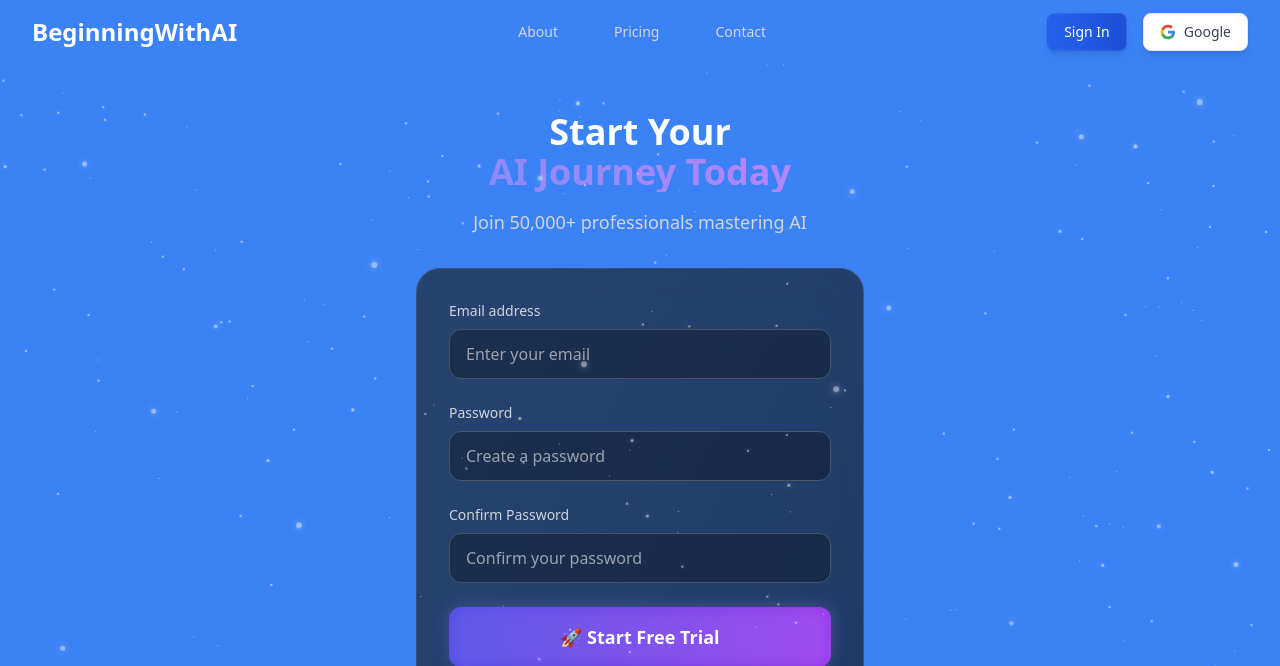
Test: Signup Page › shows error when passwords do not match
Type "test@example.com" into the field labelled "Email address" at [640, 354], box [449,329,831,379]
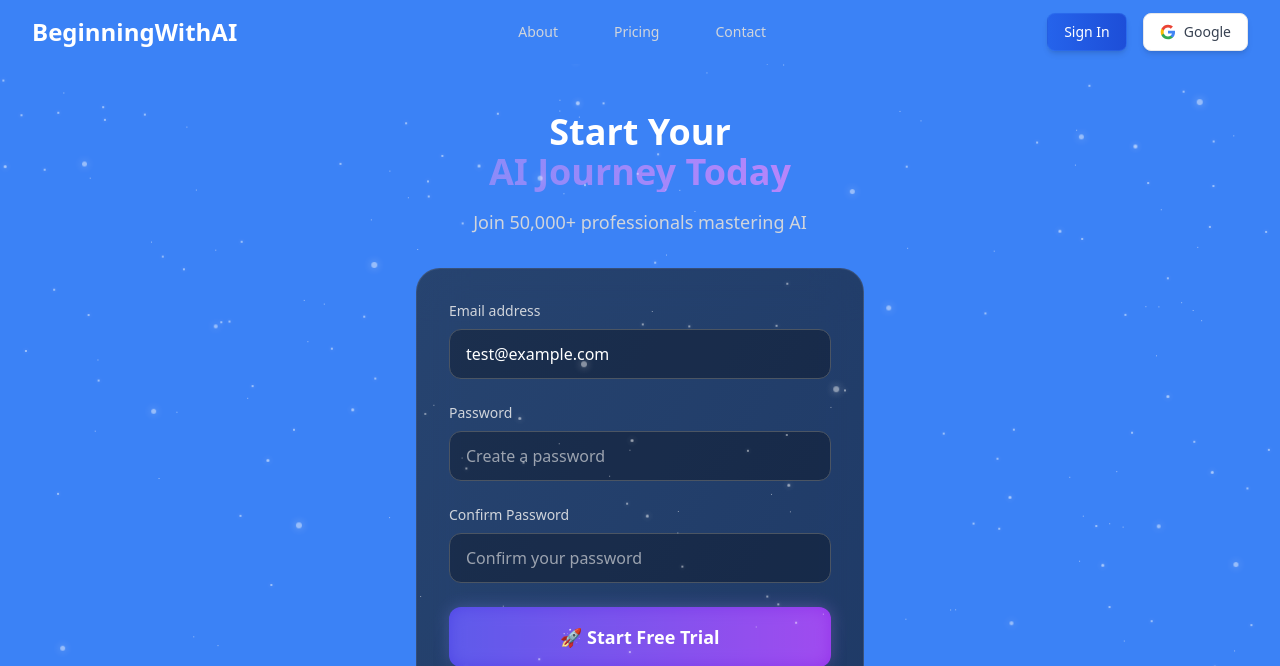
Type "password123" into the password field labelled "Password" at [640, 456], box [449,431,831,481]
(page scrolled)
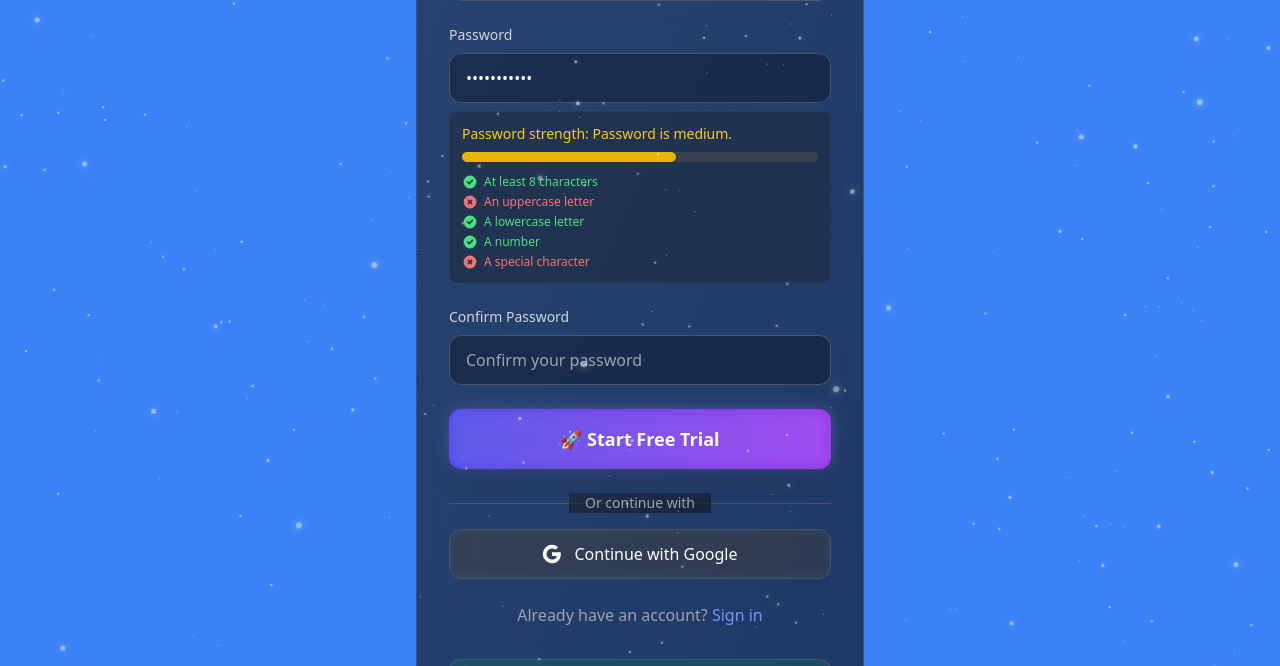
Type "password456" into the password field labelled "Confirm Password" at [640, 360], box [449,335,831,385]
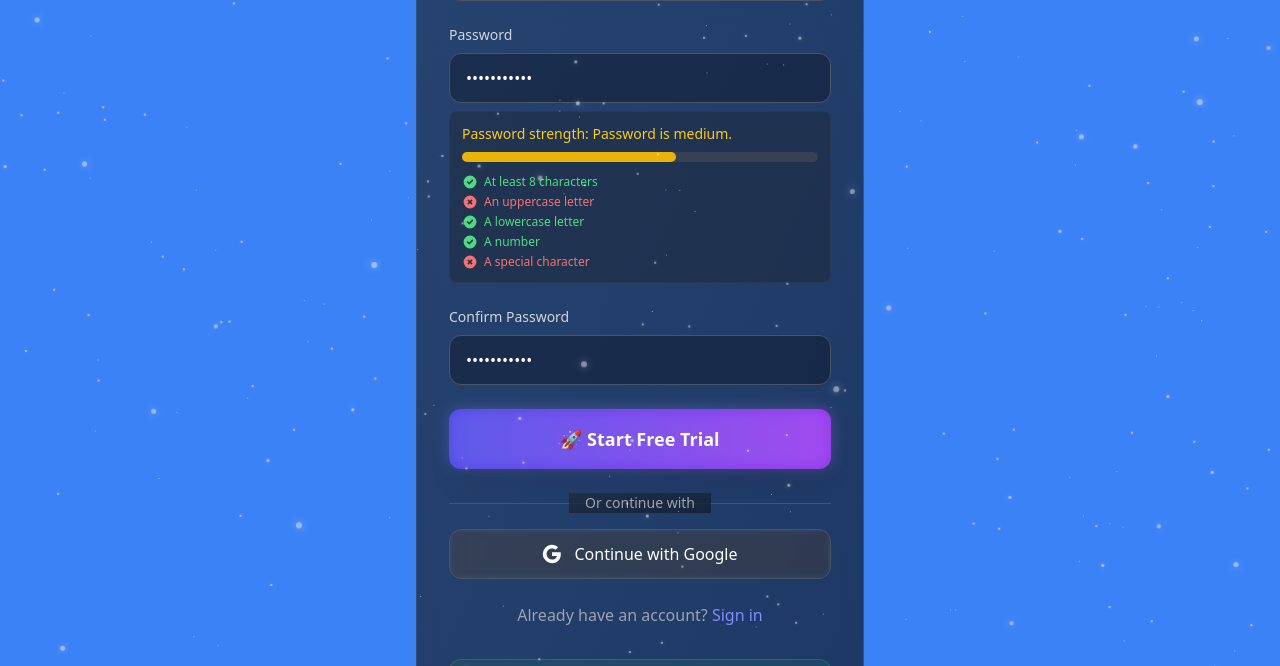
Click the button "🚀 Start Free Trial" at [640, 439], box [449,409,831,469]
(page scrolled)
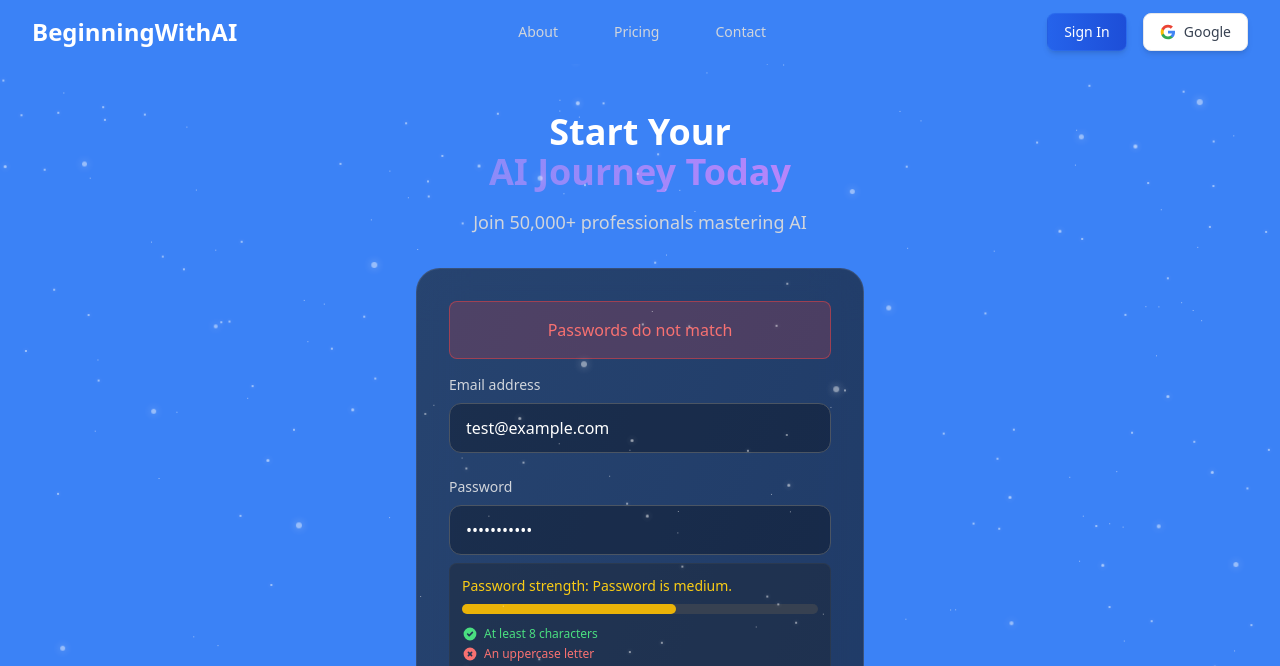
Expected: the text "Passwords do not match" is shown, [449,301,831,359]
